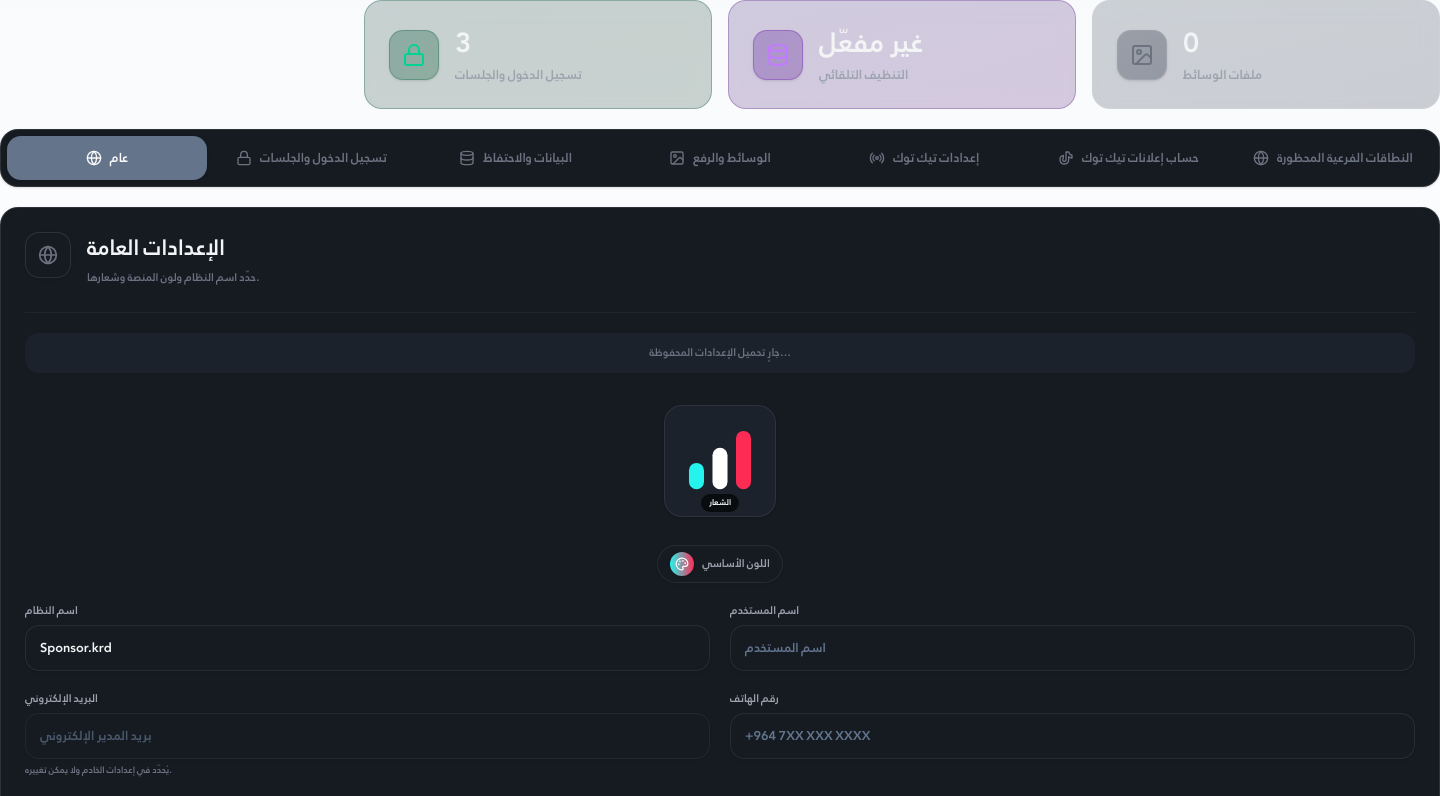
Test: PlatformSettingsPage General tab › localizes general and security settings in Arabic
This screenshot has width=1440, height=796.
Check: the heading "الإعدادات العامة" is shown, box [87, 232, 225, 264]
Click the tab "تسجيل الدخول والجلسات".
click(311, 158)  # box [211, 136, 412, 180]
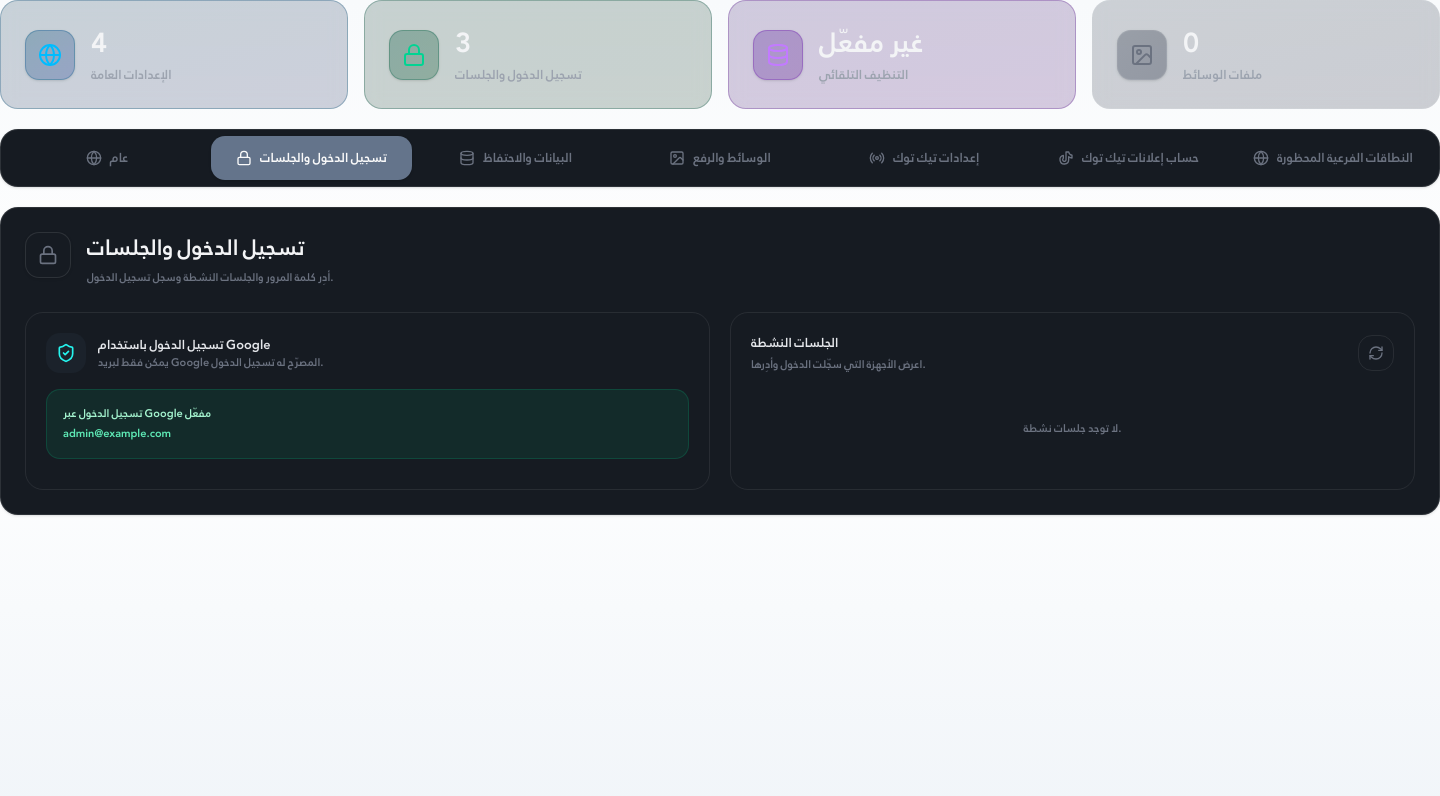
Check: the heading "تسجيل الدخول باستخدام Google" is shown, box [98, 334, 271, 356]
Check: the text "لا توجد جلسات نشطة." is shown, box [1024, 418, 1122, 438]
